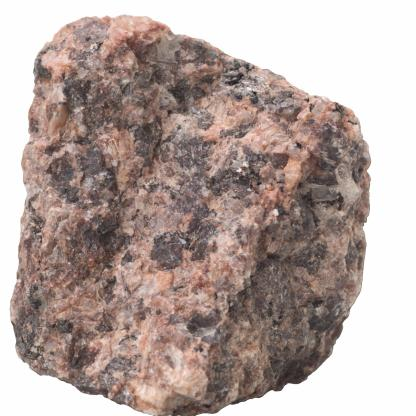Igneous_Granite: (15, 6, 384, 416)
